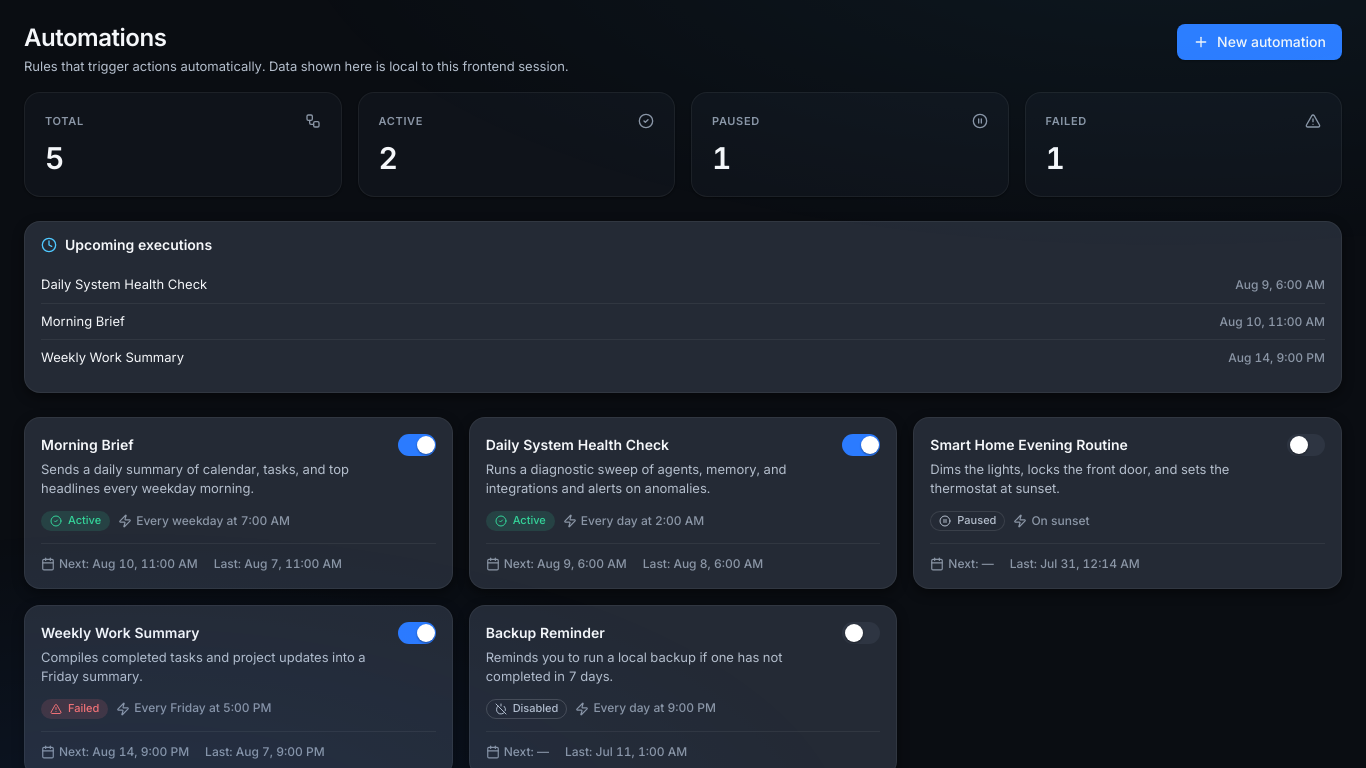
AutomationsPage › toggles enable/disable from the list and persists the change
This screenshot has width=1366, height=768.
Expected: the button with test id "automation-card-auto-1" is shown, [24,417,453,589]
Click the switch with test id "automation-toggle-auto-3": (1306, 445) [1287,434,1325,456]
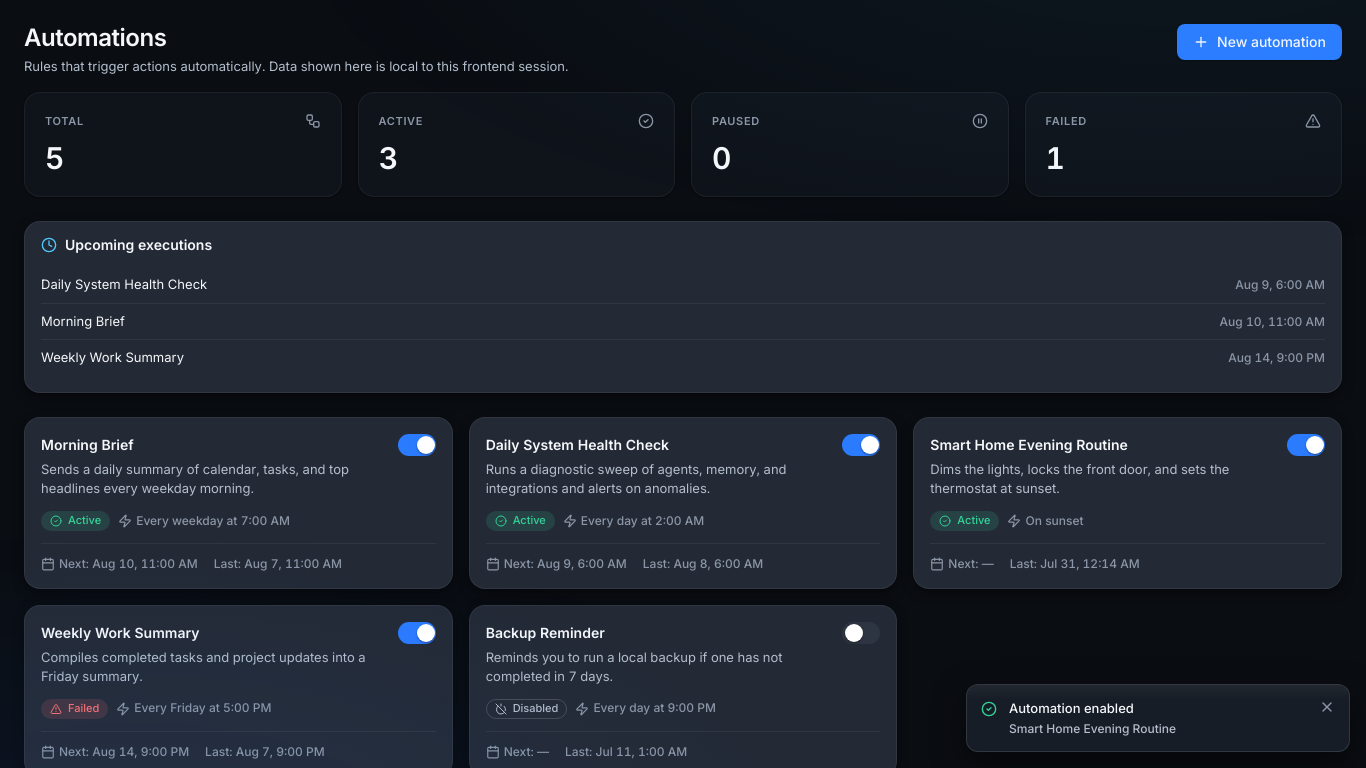
Expected: the switch with test id "automation-toggle-auto-3" is checked, [1287,434,1325,456]
Expected: the 3rd text "Active" is shown, [930,511,1000,531]
